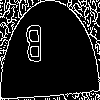B: (25, 24, 43, 71)
